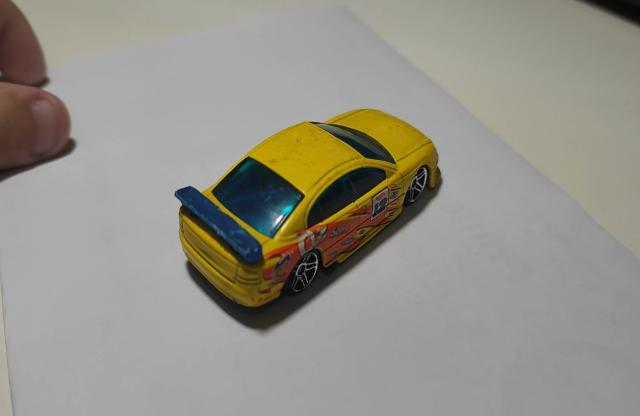02_OZSOME: (174, 109, 442, 325)
